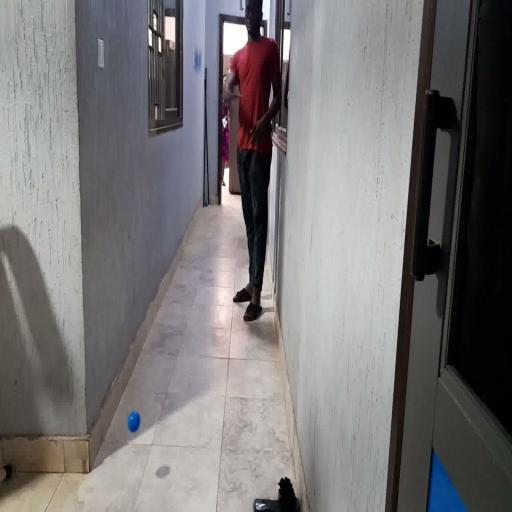plastic-ball: (127, 406, 143, 435)
